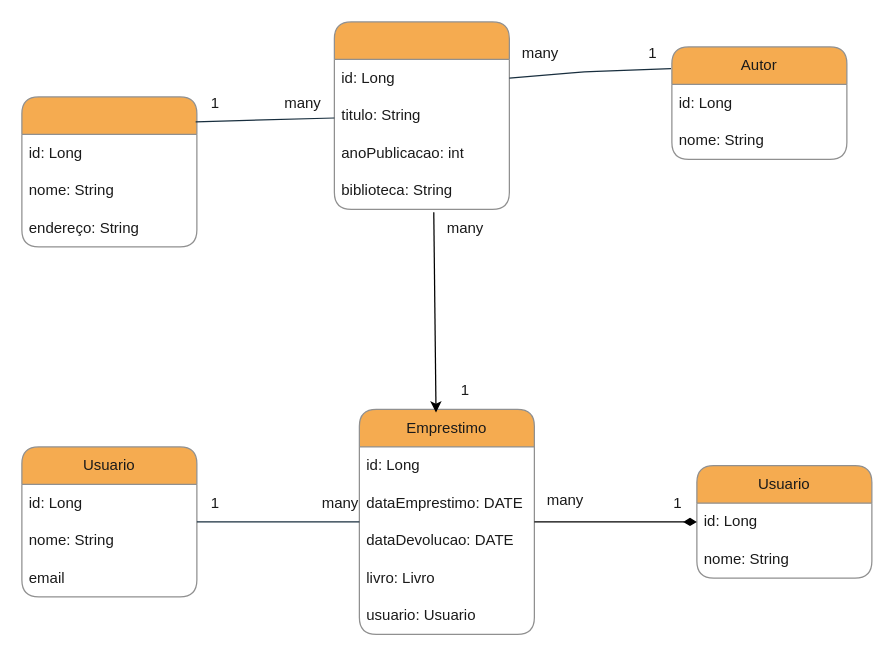
The diagram is 894 pixels wide and 656 high, and some of its shapes have lost their labels. The box of each missing label's shape, as (x1, y1, x2, y2) in pixels:
Biblioteca: (21, 96, 197, 247)
Livro: (333, 21, 509, 209)
